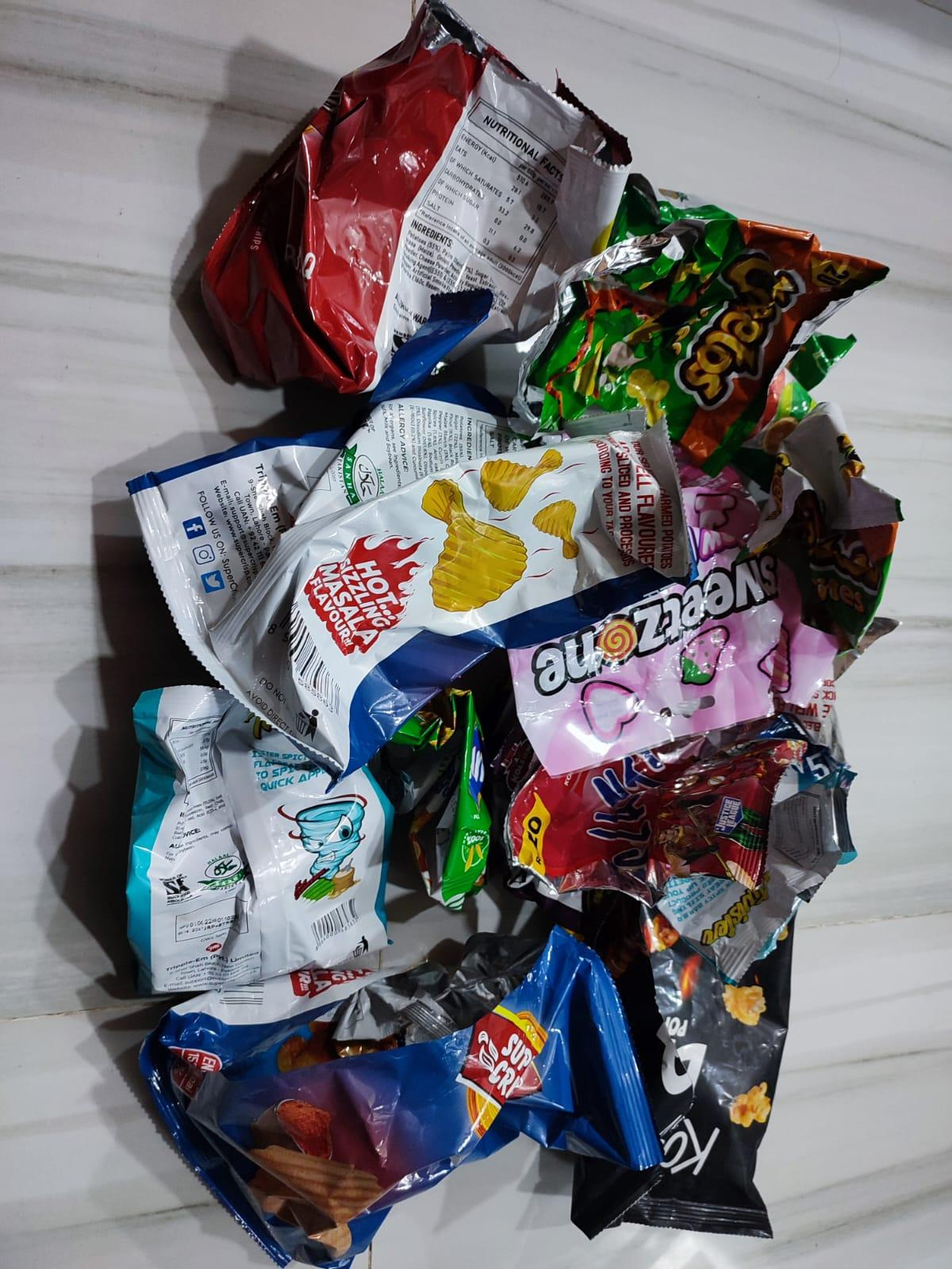garbage: (104, 14, 867, 1247)
